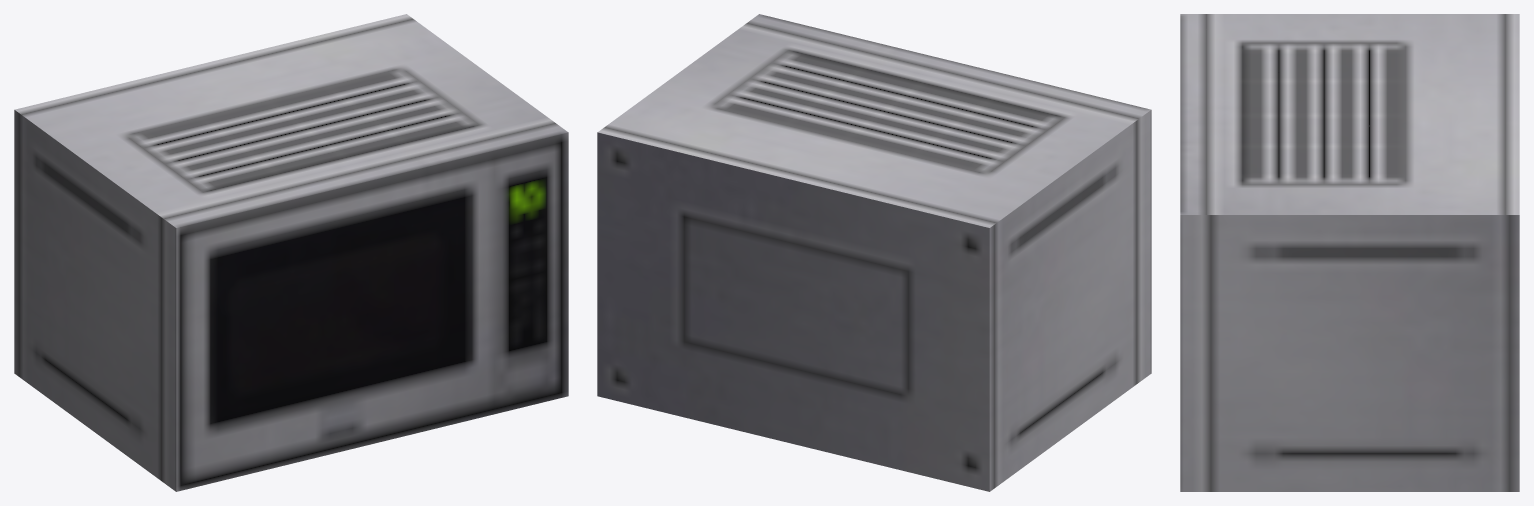
The model's file is Microwave_Oven.fbx.
3 renders of one model, left to right at view 1: azimuth 30°, elevation 25°; view 2: azimuth 150°, elevation 25°; view 3: azimuth 270°, elevation 25°, orthographic. The views are drawn at different scales.
Parts seen in each view (by area): view 1: polySurface748; view 2: polySurface748; view 3: polySurface748.
Boxes of the visible parts, x1,y1,x2,y2 form: polySurface748: (14, 14, 568, 491); polySurface748: (597, 14, 1151, 491); polySurface748: (1180, 14, 1519, 491).
Size of the model in its own units: 0.7 by 0.45 by 0.5.
